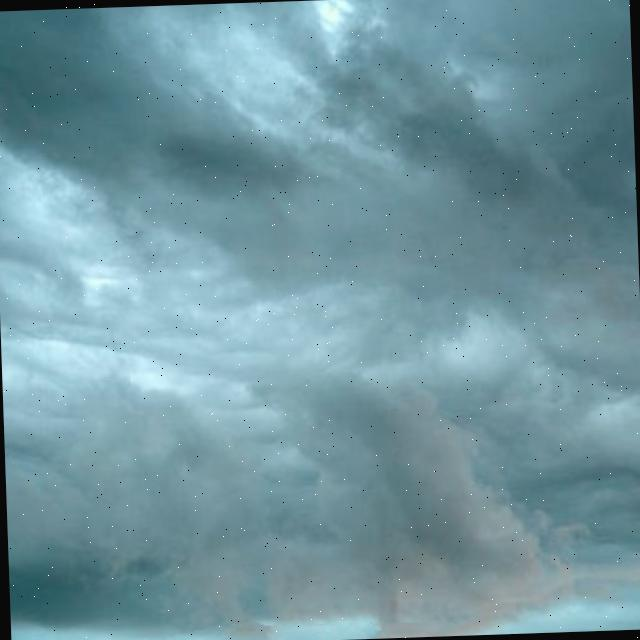Ns: (1, 17, 640, 640)
